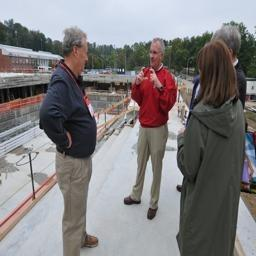no hat: (194, 42, 239, 110), (55, 21, 100, 86), (138, 28, 174, 76), (212, 26, 248, 66)
no vest: (184, 106, 253, 256), (39, 64, 102, 159), (125, 60, 176, 138), (230, 66, 256, 164)
